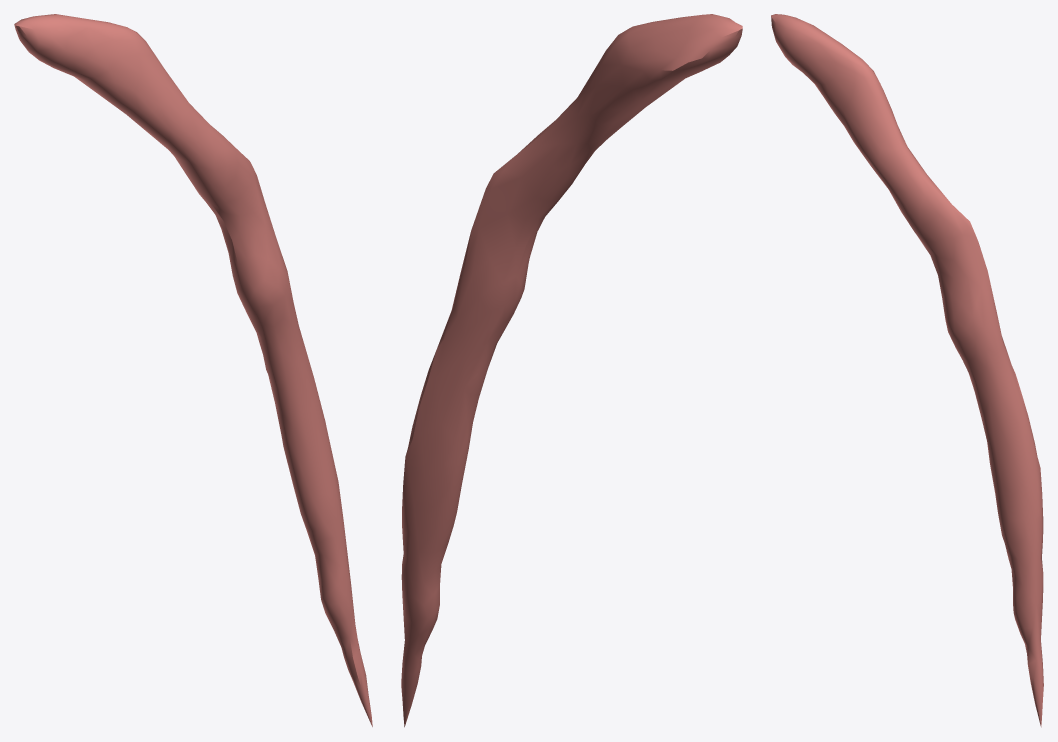
File: fma38632-o_mm2247m.glb
The picture shows the model from 3 angles, left to right: view 1: azimuth 30°, elevation 25°; view 2: azimuth 150°, elevation 25°; view 3: azimuth 330°, elevation 25°; orthographic projection. The views are drawn at different scales.
Visible parts, largest first — view 1: FMA38632-O_MM2247M; view 2: FMA38632-O_MM2247M; view 3: FMA38632-O_MM2247M.
Boxes of the visible parts, x1=… form: FMA38632-O_MM2247M: x1=14, y1=14, x2=372, y2=726; FMA38632-O_MM2247M: x1=401, y1=14, x2=742, y2=727; FMA38632-O_MM2247M: x1=771, y1=14, x2=1043, y2=727.
Size of the model in its own units: 0.0233 by 0.0505 by 0.00465.
